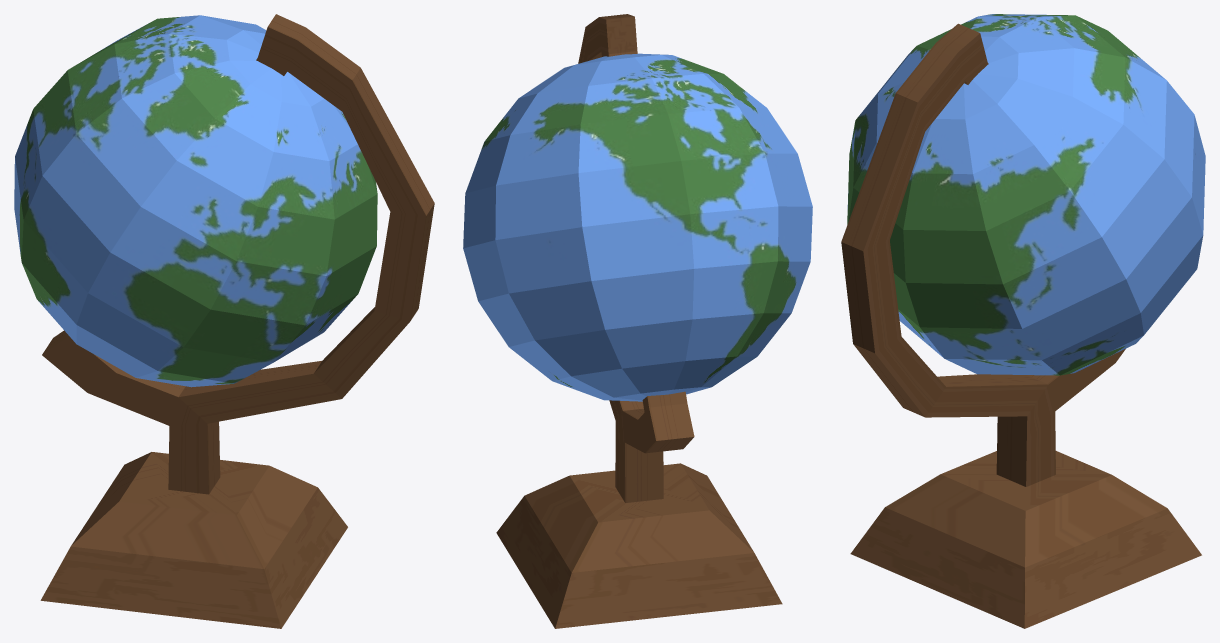
File: ColladaGlobe.dae
The picture shows the model from 3 angles, left to right: view 1: azimuth 30°, elevation 25°; view 2: azimuth 150°, elevation 25°; view 3: azimuth 270°, elevation 25°; orthographic projection. The views are drawn at different scales.
Parts seen in each view (by area): view 1: pSphere2, pCube213; view 2: pSphere2, pCube213; view 3: pSphere2, pCube213.
Boxes of the visible parts, x1,y1,x2,y2 form: pSphere2: (14, 15, 377, 387); pCube213: (40, 14, 434, 628); pSphere2: (463, 53, 812, 401); pCube213: (496, 14, 782, 628); pSphere2: (847, 14, 1205, 375); pCube213: (841, 23, 1201, 628).
Bounding box in the file's own units: 52.25 × 85.89 × 51.58.
